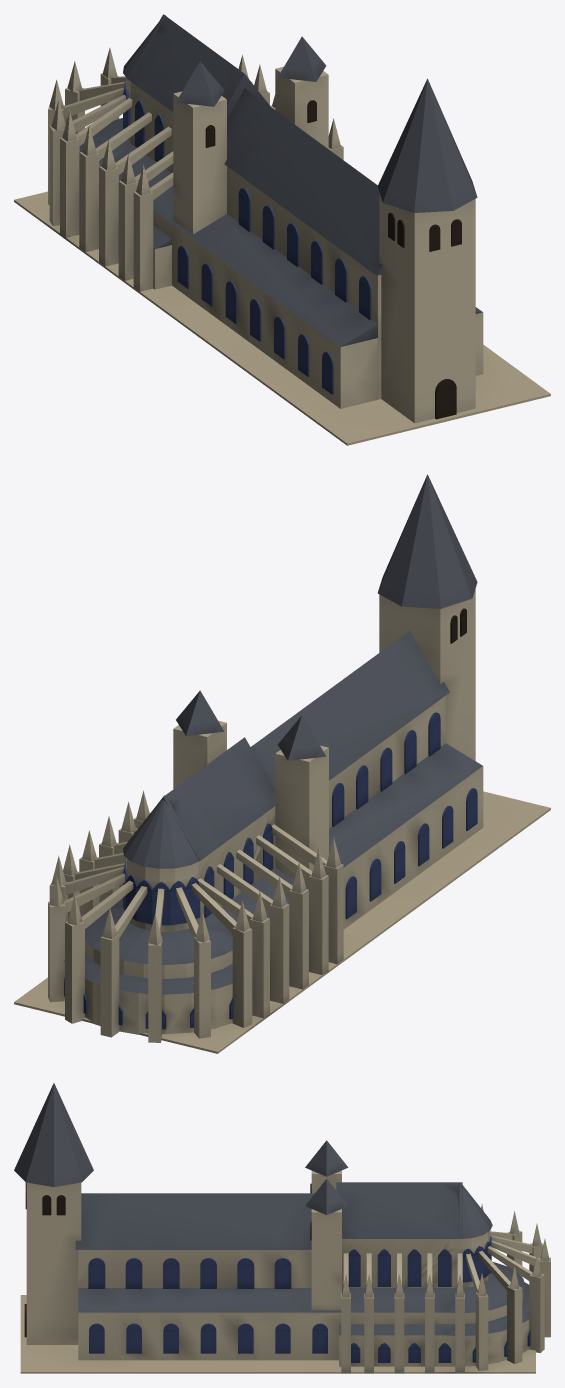
The model's file is saint-germain.glb.
3 renders of one model, top to bottom at view 1: azimuth 30°, elevation 25°; view 2: azimuth 150°, elevation 25°; view 3: azimuth 270°, elevation 25°, orthographic. The views are drawn at different scales.
Visible parts, largest first — view 1: p1_roofs, p2_towers, p0_walls; view 2: p1_roofs, p0_walls, p2_towers; view 3: p1_roofs, p0_walls, p2_towers.
Boxes of the visible parts, x1=… form: p1_roofs: x1=48, y1=14, x2=482, y2=346; p2_towers: x1=173, y1=36, x2=477, y2=423; p0_walls: x1=14, y1=77, x2=550, y2=445; p1_roofs: x1=48, y1=630, x2=482, y2=1042; p0_walls: x1=14, y1=696, x2=550, y2=1053; p2_towers: x1=173, y1=474, x2=477, y2=888; p1_roofs: x1=75, y1=1182, x2=550, y2=1373; p0_walls: x1=20, y1=1231, x2=535, y2=1373; p2_towers: x1=14, y1=1083, x2=348, y2=1344.
Size of the model in its own units: 30 by 46 by 88.6.
